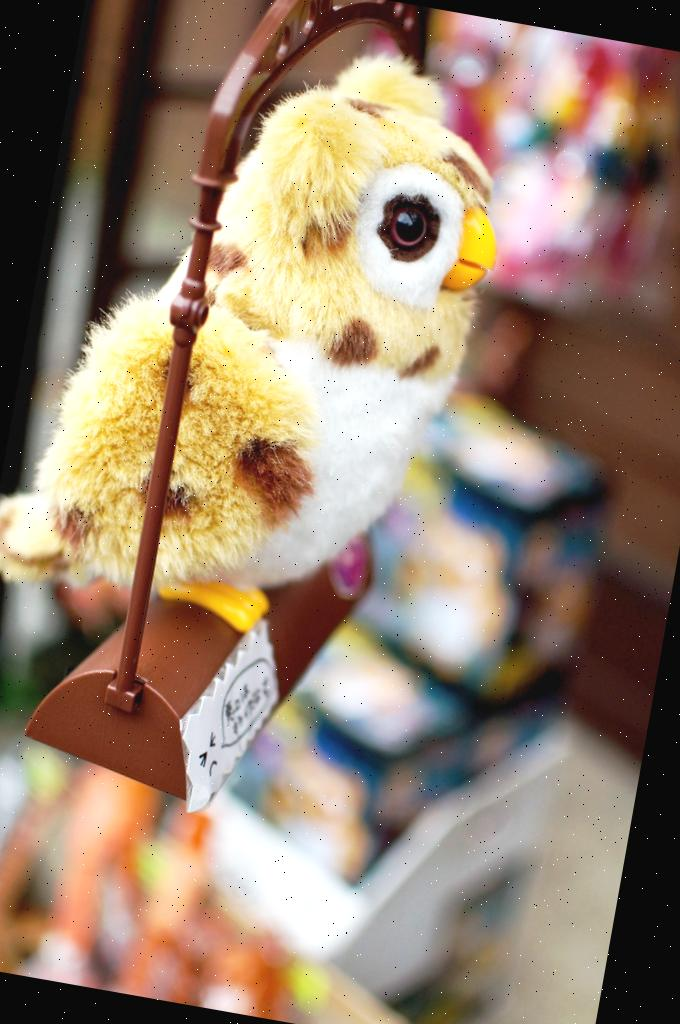Owl: (0, 0, 528, 672)
